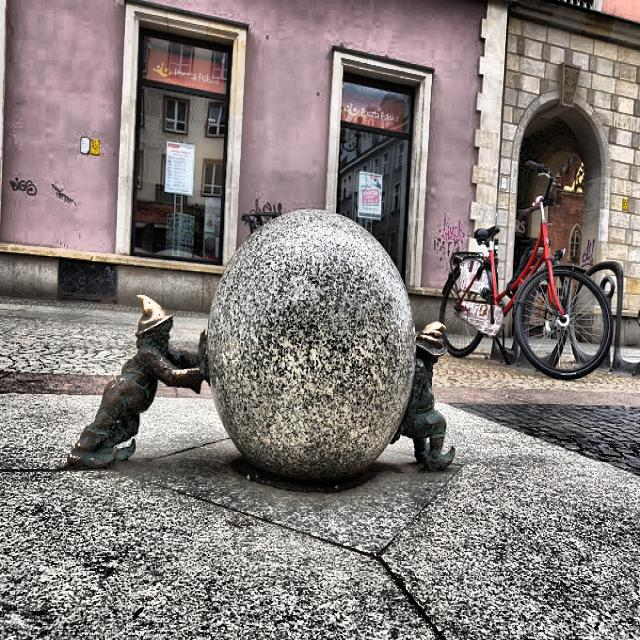Syzyfki: (65, 198, 468, 492)
